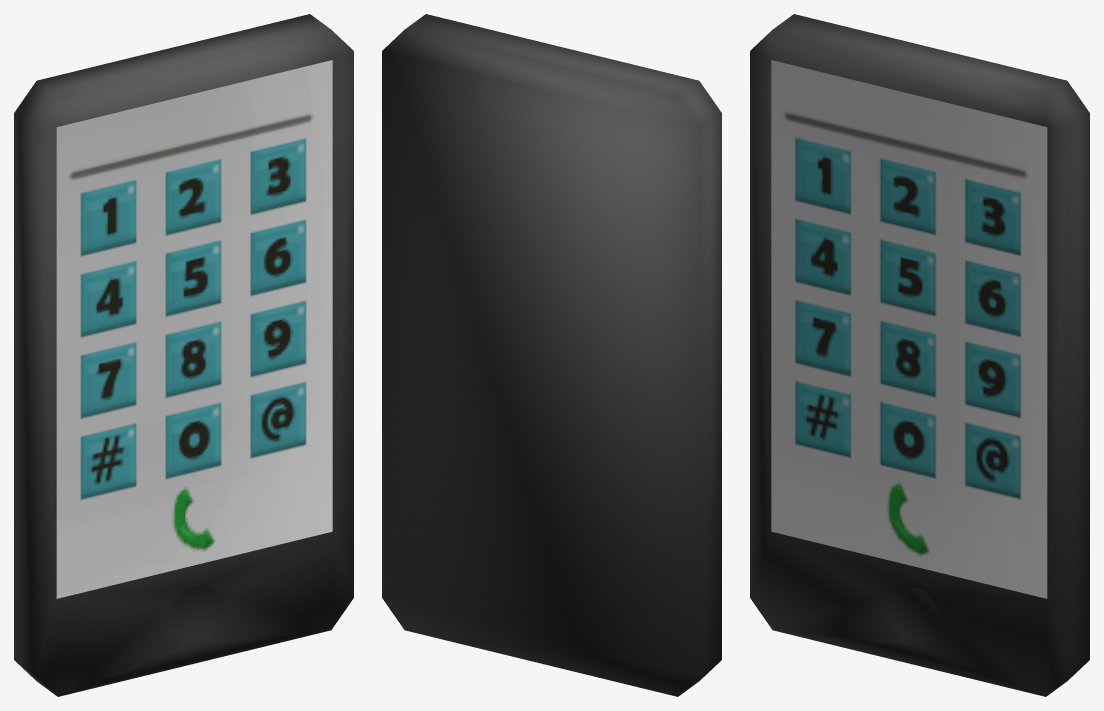
The model's file is CellPhone.fbx.
The picture shows the model from 3 angles, left to right: view 1: azimuth 30°, elevation 25°; view 2: azimuth 150°, elevation 25°; view 3: azimuth 330°, elevation 25°; orthographic projection.
Parts seen in each view (by area): view 1: CellPhone; view 2: CellPhone; view 3: CellPhone.
Part boxes in pixels (x1=…): CellPhone: x1=14, y1=14, x2=353, y2=696; CellPhone: x1=382, y1=14, x2=721, y2=696; CellPhone: x1=750, y1=14, x2=1089, y2=696.
Bounding box in the file's own units: 7.86 × 14.17 × 0.9138.
